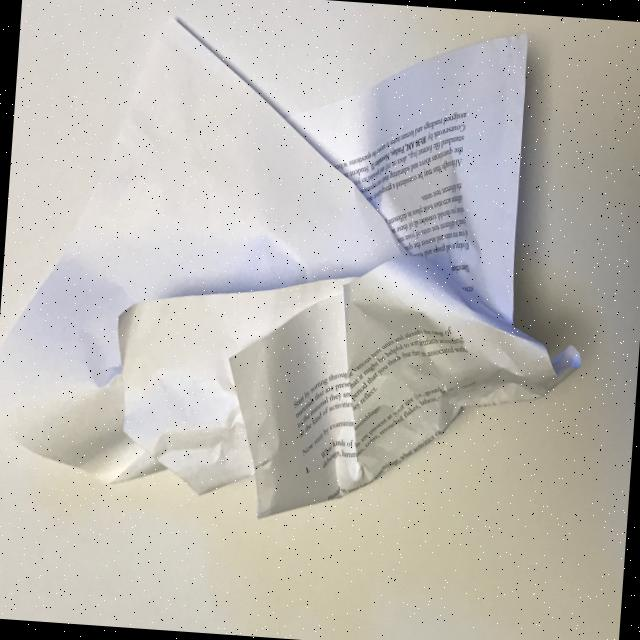paper: (0, 0, 601, 536)
